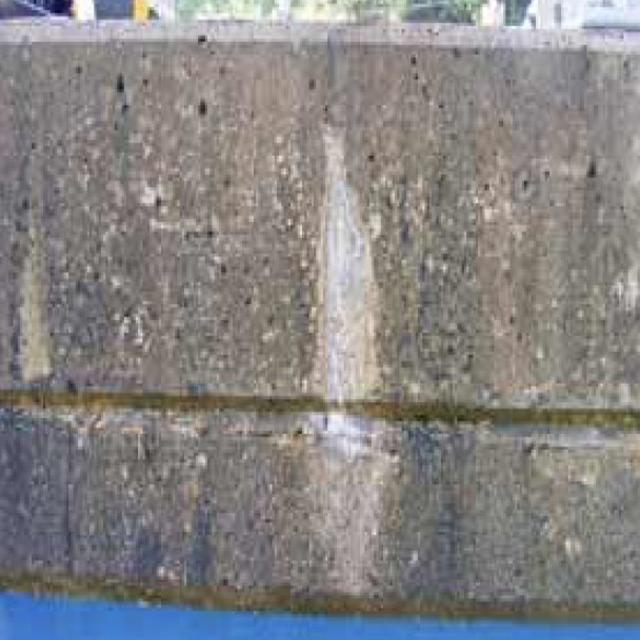freelime: (302, 124, 392, 522)
